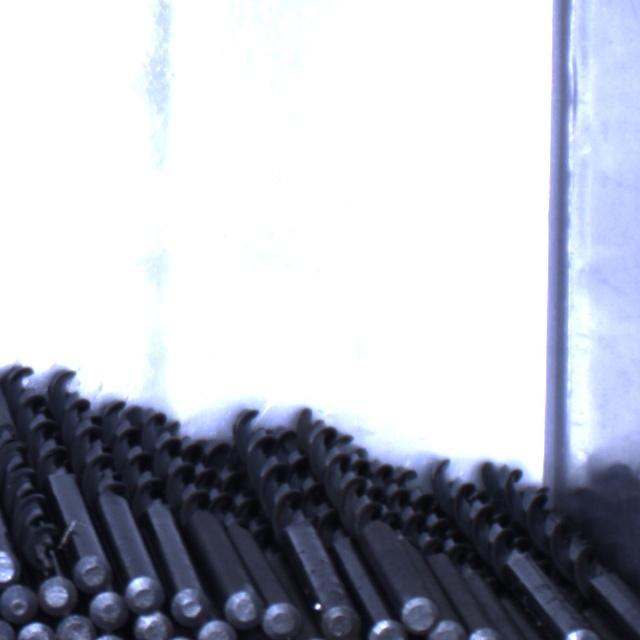tool: (262, 600, 302, 640), (37, 576, 77, 614), (173, 586, 210, 622), (402, 596, 438, 632), (0, 581, 35, 618), (225, 590, 263, 624), (128, 580, 165, 611), (324, 606, 359, 638), (56, 613, 94, 640), (93, 593, 124, 625), (139, 612, 174, 640), (425, 619, 467, 640), (196, 619, 236, 640), (80, 560, 107, 590), (19, 621, 55, 640), (372, 618, 402, 640), (0, 549, 15, 586), (562, 624, 595, 640), (471, 626, 505, 640), (0, 619, 15, 640), (93, 633, 130, 640)
